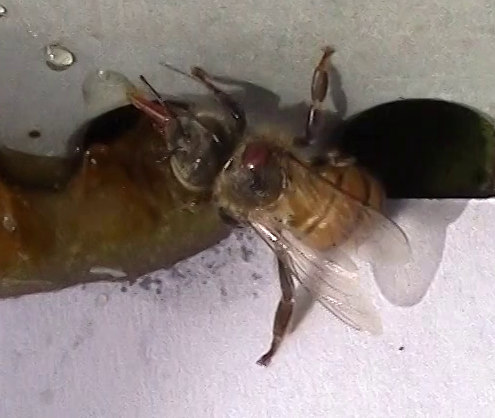Varroa destructor: (238, 139, 273, 172)
